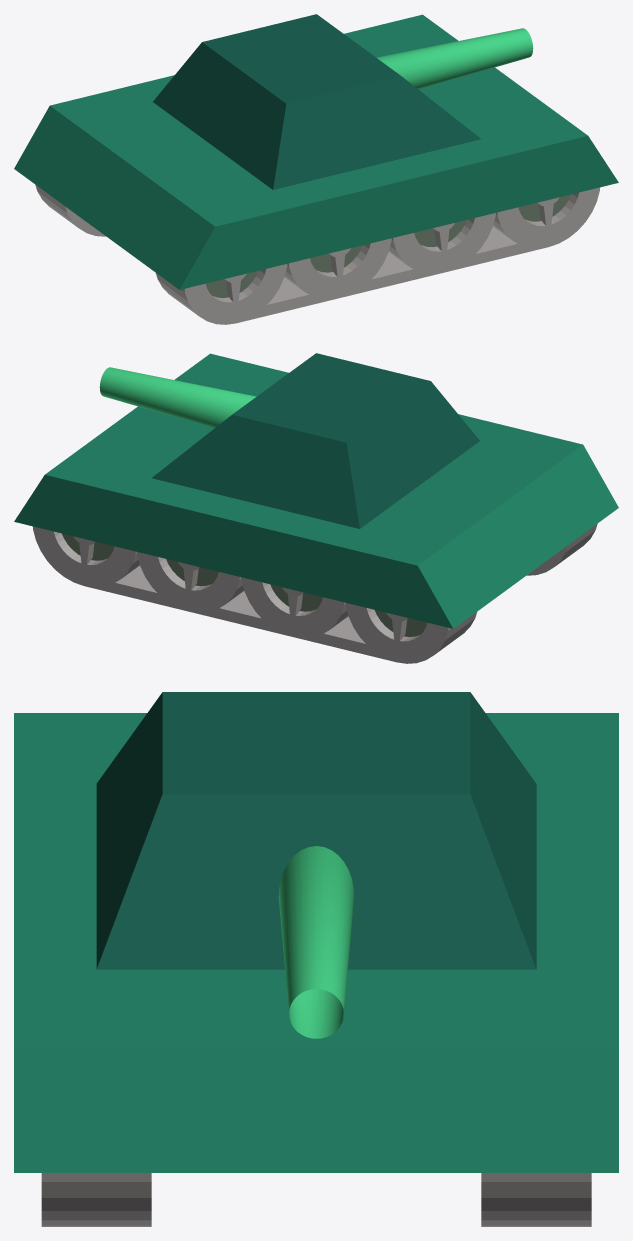
Rendered from tank1.dae.
The picture shows the model from 3 angles, top to bottom: view 1: azimuth 30°, elevation 25°; view 2: azimuth 150°, elevation 25°; view 3: azimuth 270°, elevation 25°; orthographic projection. The views are drawn at different scales.
Parts seen in each view (by area): view 1: Chassis, Turret, Cannon, track_right, wheel_right4, wheel_right1, wheel_right3, wheel_right2, whell_left4; view 2: Chassis, Turret, Cannon, track_left, whell_left4, wheel_left1, wheel_left2, wheel_left3, wheel_right4; view 3: Chassis, Turret, Cannon, wheel_left1, wheel_right1.
Boxes of the visible parts, bbox=[...] form: Chassis: bbox=[14, 14, 618, 289]; Turret: bbox=[153, 14, 481, 189]; Cannon: bbox=[376, 28, 533, 89]; track_right: bbox=[236, 226, 546, 322]; wheel_right4: bbox=[156, 264, 287, 324]; wheel_right1: bbox=[493, 187, 600, 247]; wheel_right3: bbox=[284, 238, 391, 298]; wheel_right2: bbox=[388, 213, 495, 273]; whell_left4: bbox=[35, 185, 105, 236]; Chassis: bbox=[14, 353, 618, 628]; Turret: bbox=[151, 353, 479, 528]; Cannon: bbox=[99, 367, 256, 428]; track_left: bbox=[84, 565, 396, 662]; whell_left4: bbox=[345, 603, 476, 663]; wheel_left1: bbox=[32, 526, 139, 585]; wheel_left2: bbox=[137, 552, 244, 612]; wheel_left3: bbox=[241, 577, 348, 637]; wheel_right4: bbox=[527, 524, 597, 575]; Chassis: bbox=[14, 713, 618, 1172]; Turret: bbox=[96, 692, 536, 969]; Cannon: bbox=[278, 846, 354, 1038]; wheel_left1: bbox=[481, 1173, 591, 1226]; wheel_right1: bbox=[41, 1173, 151, 1226].
Bounding box in the file's own units: 8.43 × 5.5 × 3.21.
